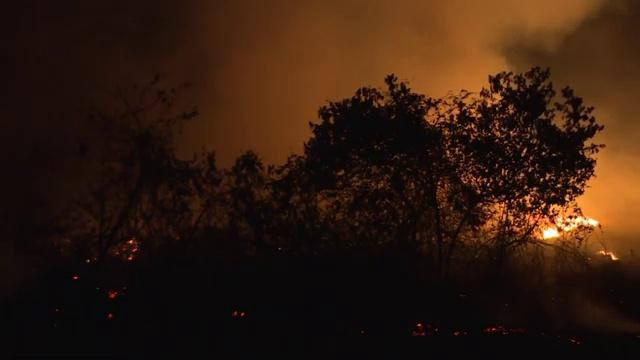smoke: (204, 15, 295, 145), (305, 8, 471, 67)
